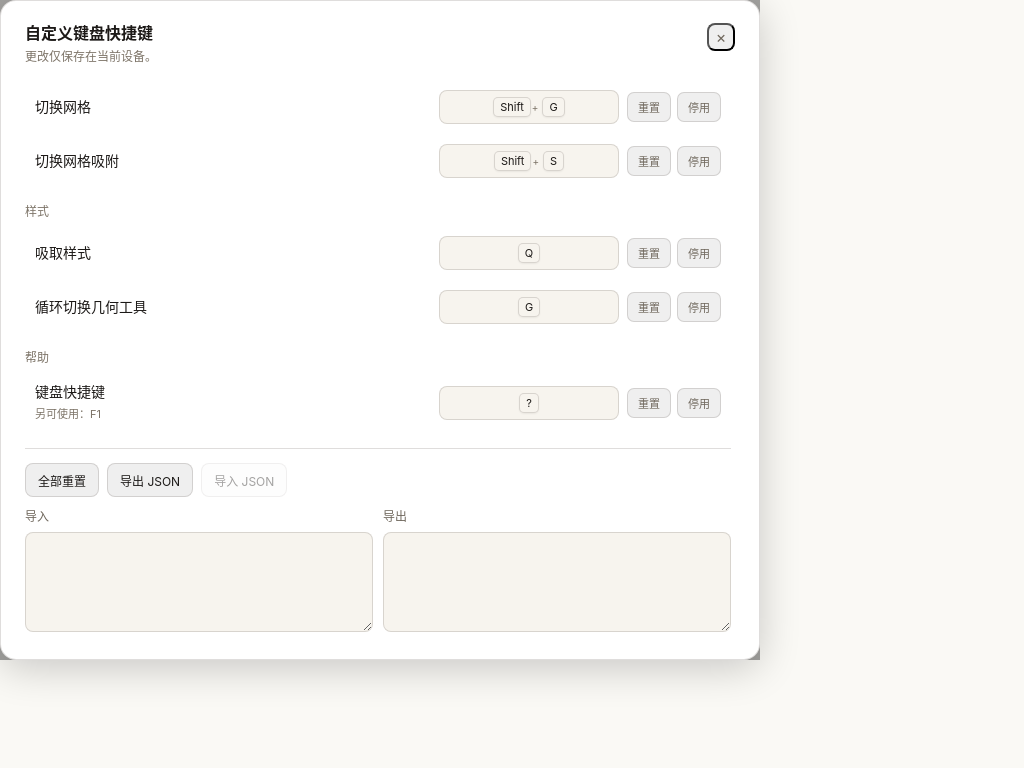
Test: KeyboardShortcutSettings › resets all shortcuts
The image size is (1024, 768).
(page scrolled)
Click the button "全部重置". click: (62, 480)
box: x1=25 y1=463 x2=99 y2=497
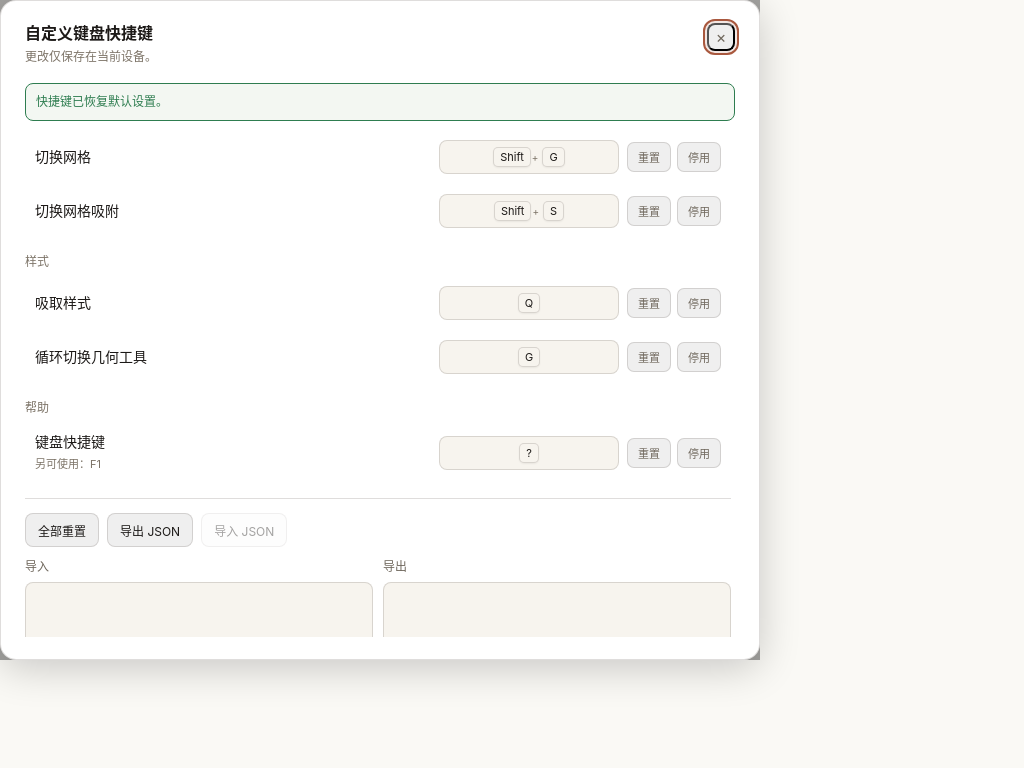
Check: the text "快捷键已恢复默认设置。" is shown, box x1=25 y1=83 x2=735 y2=121
